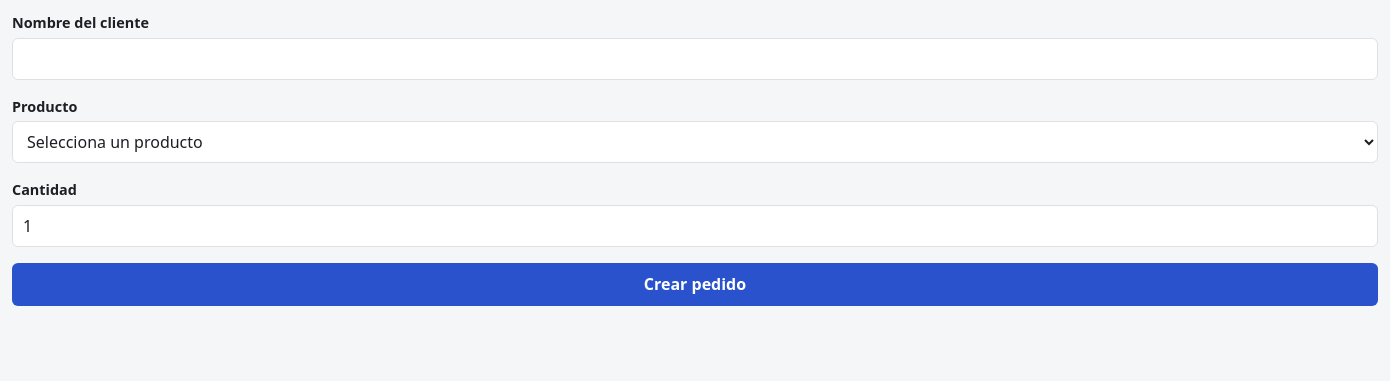
Test case: OrderForm › un pedido válido se envía y muestra la confirmación
The image size is (1390, 381).
Step 1. Type "  Ana  " into the field labelled "Nombre del cliente" → (695, 59), box [12,38,1378,80]
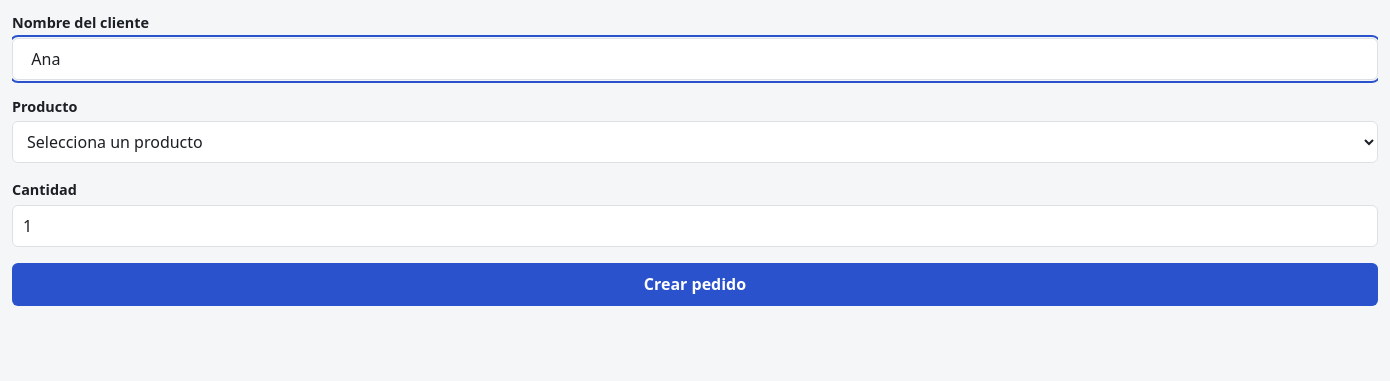
Step 2. Select "Teclado mecánico (SKU-001)" in the dropdown labelled "Producto" → (695, 142), box [12,121,1378,163]
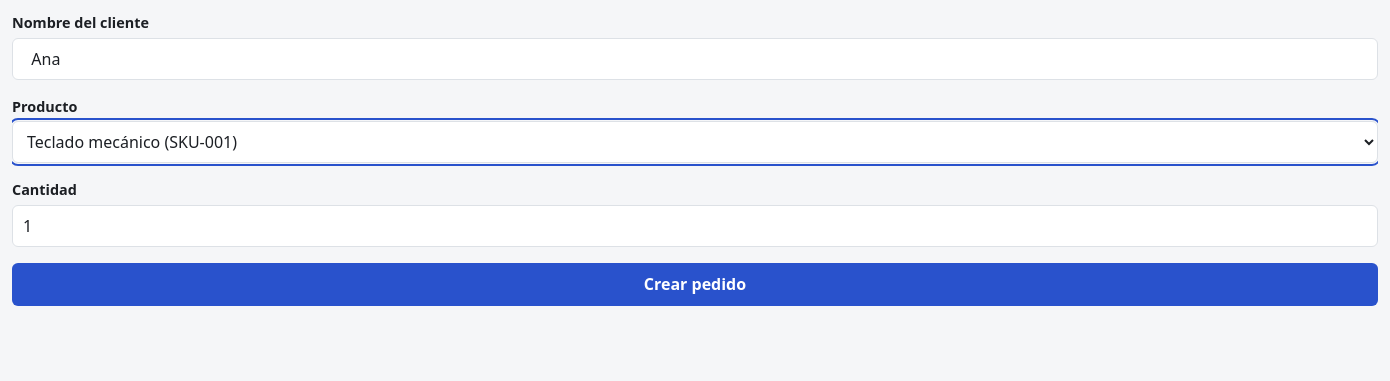
Step 3. Replace the text in the number field labelled "Cantidad" with "2" → (695, 226), box [12,205,1378,247]
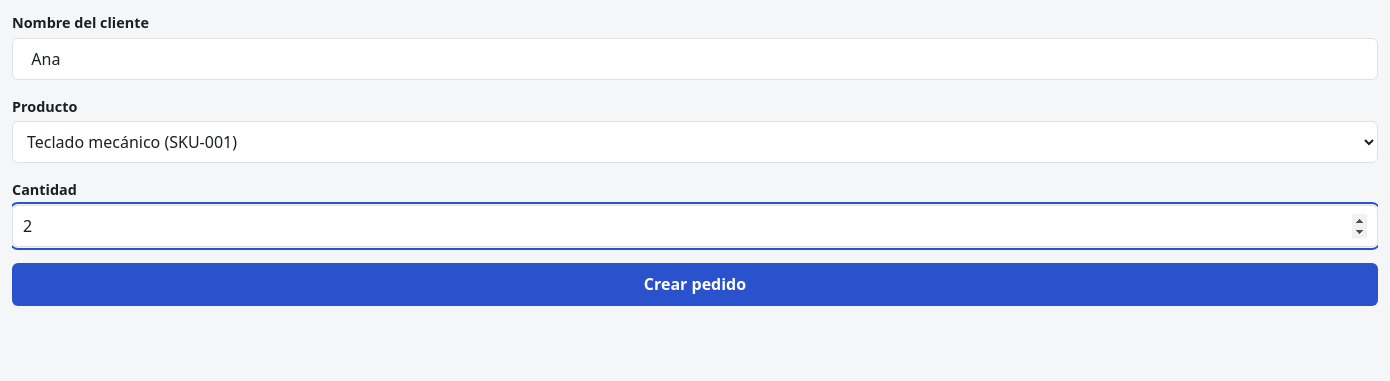
Step 4. Click the button "Crear pedido" → (695, 284), box [12,263,1378,306]
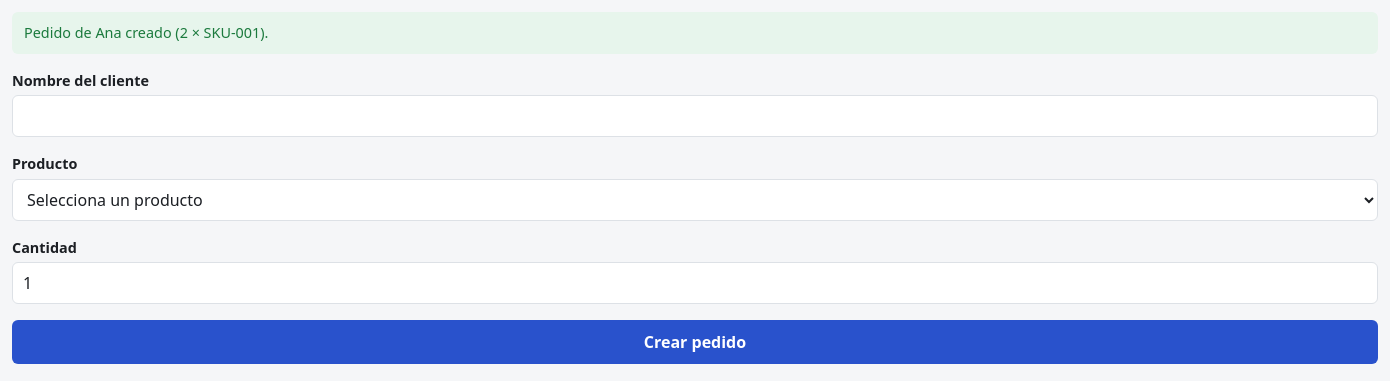
Now the message reads "Pedido de Ana creado (2 × SKU-001).", box [24,23,268,42]
